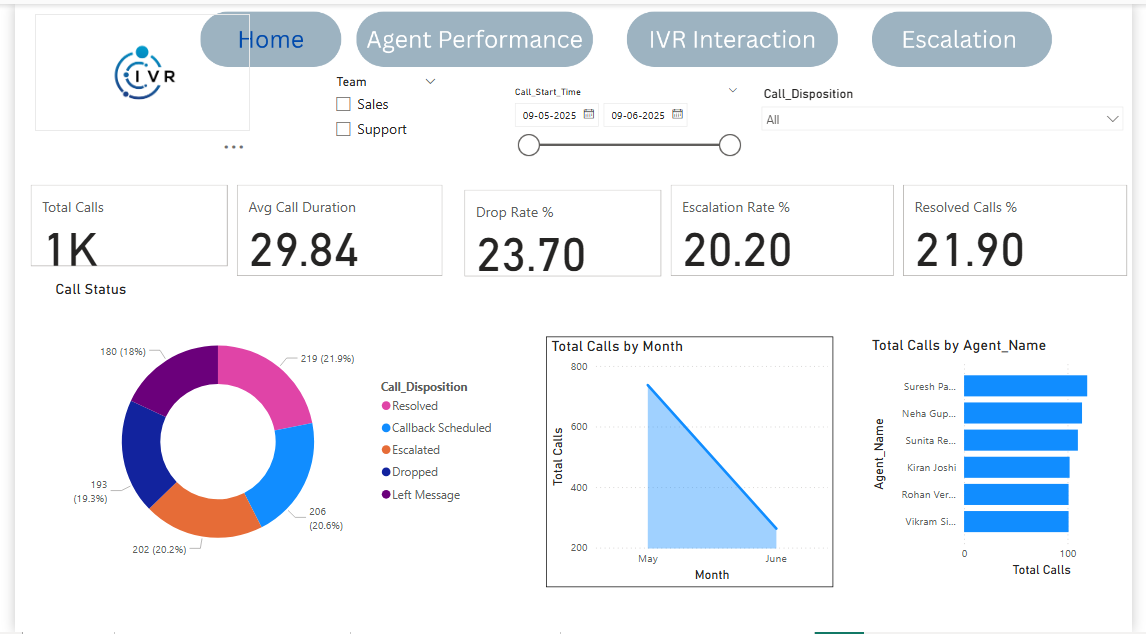

Layout of this report page (visuals, bound fields, positions):
{"tool":"powerbi","page":{"name":"Home","canvas":[1280,720],"ordinal":0},"visuals":[{"type":"cardVisual","fields":{"Data":["ivr agent_details.Total Calls"]},"box":[12.5,202.4,236.7,104.3],"z":0},{"type":"cardVisual","fields":{"Data":["ivr agent_details.Avg Call Duration"]},"box":[249.1,202.4,246,115.2],"z":1000},{"type":"cardVisual","fields":{"Data":["ivr agent_details.Drop Rate %"]},"box":[509.2,207.1,236.7,110.6],"z":2000},{"type":"cardVisual","fields":{"Data":["ivr agent_details.Escalation Rate %"]},"box":[745.9,202.4,266.3,115.2],"z":3000},{"type":"cardVisual","fields":{"Data":["ivr agent_details.Resolved Calls %"]},"box":[1012.1,202.4,267.8,115.2],"z":4000},{"type":"donutChart","title":"Call Status","fields":{"Category":["ivr call_data.Call_Disposition"],"Y":["CountNonNull(ivr call_data.Call_ID)"]},"box":[41.9,317,518.4,350.9],"z":5000},{"type":"lineChart","fields":{"Category":["ivr call_data.Call_Start_Time.Variation.Date Hierarchy.Month"],"Y":["ivr agent_details.Total Calls"]},"box":[608.1,380.8,329,287.1],"z":6000},{"type":"barChart","fields":{"Category":["ivr agent_details.Agent_Name"],"Y":["ivr agent_details.Total Calls"]},"box":[976.3,381.5,303.6,280.3],"z":7000},{"type":"slicer","fields":{"Values":["ivr agent_details.Team"]},"box":[355.6,75.7,140,90.8],"z":8000},{"type":"slicer","fields":{"Values":["ivr call_data.Call_Start_Time"]},"box":[559.8,88.9,279.9,87],"z":9000},{"type":"slicer","fields":{"Values":["ivr call_data.Call_Disposition"]},"box":[845.4,88.9,435,64.3],"z":10000},{"type":"image","box":[22.7,11.3,245.9,134.3],"z":11000},{"type":"actionButton","box":[230.7,11.3,124.8,49.2],"z":11001},{"type":"actionButton","box":[425.5,11.3,213.7,49.2],"z":11002},{"type":"actionButton","box":[707.3,11.3,230.7,49.2],"z":11003},{"type":"actionButton","box":[996.7,11.3,179.7,49.2],"z":11004}]}

Visuals, with their boxes in screenshot pixels (x1, y1, x2, y2), scaled from the page's 1280x720 canvas onto the 1146x634 screenshot:
cardVisual - ivr agent_details.Total Calls: detection(11, 178, 223, 270)
cardVisual - ivr agent_details.Avg Call Duration: detection(223, 178, 443, 280)
cardVisual - ivr agent_details.Drop Rate %: detection(456, 182, 668, 280)
cardVisual - ivr agent_details.Escalation Rate %: detection(668, 178, 906, 280)
cardVisual - ivr agent_details.Resolved Calls %: detection(906, 178, 1145, 280)
"Call Status" donutChart: detection(38, 279, 502, 588)
lineChart - ivr call_data.Call_Start_Time.Variation.Date Hierarchy.Month x ivr agent_details.Total Calls: detection(544, 335, 839, 588)
barChart - ivr agent_details.Agent_Name x ivr agent_details.Total Calls: detection(874, 336, 1145, 583)
slicer - ivr agent_details.Team: detection(318, 67, 444, 147)
slicer - ivr call_data.Call_Start_Time: detection(501, 78, 752, 155)
slicer - ivr call_data.Call_Disposition: detection(757, 78, 1145, 135)
image: detection(20, 10, 240, 128)
actionButton: detection(207, 10, 318, 53)
actionButton: detection(381, 10, 572, 53)
actionButton: detection(633, 10, 840, 53)
actionButton: detection(892, 10, 1053, 53)
